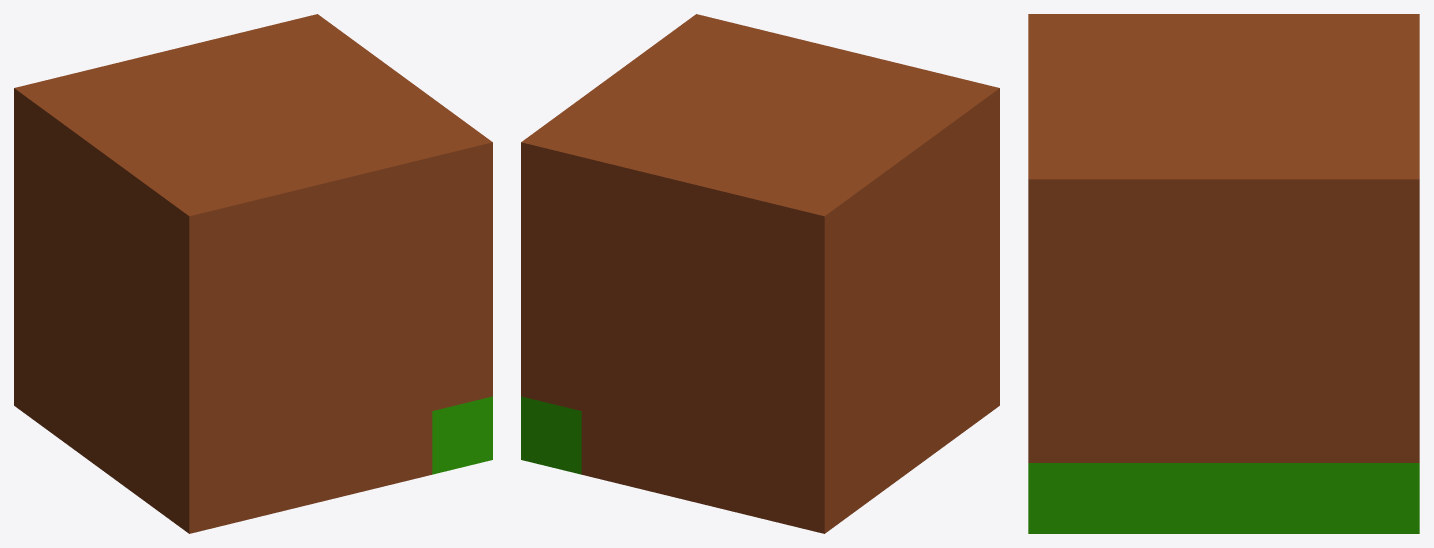
File: BRC.FBX
3 views of the same model, side by side, from view 1: azimuth 30°, elevation 25°; view 2: azimuth 150°, elevation 25°; view 3: azimuth 270°, elevation 25° (orthographic). The views are drawn at different scales.
Parts seen in each view (by area): view 1: BRC; view 2: BRC; view 3: BRC.
Boxes of the visible parts, left/top/right/bottom form: BRC: left=14, top=14, right=492, bottom=533; BRC: left=521, top=14, right=999, bottom=533; BRC: left=1028, top=14, right=1419, bottom=533.
Bounding box in the file's own units: 0.5 × 0.5 × 0.5.
